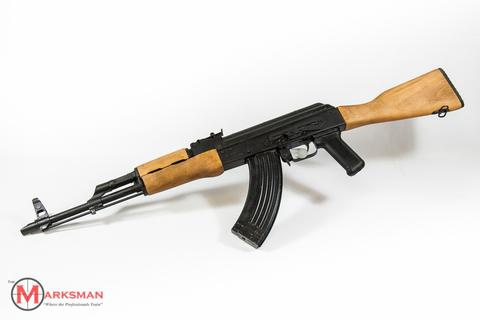ak47: (24, 67, 464, 245)
